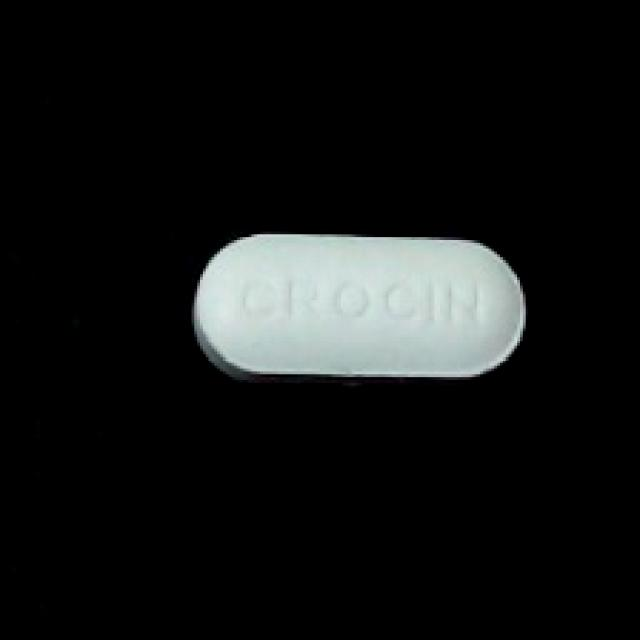no-defect: (183, 229, 534, 389)
